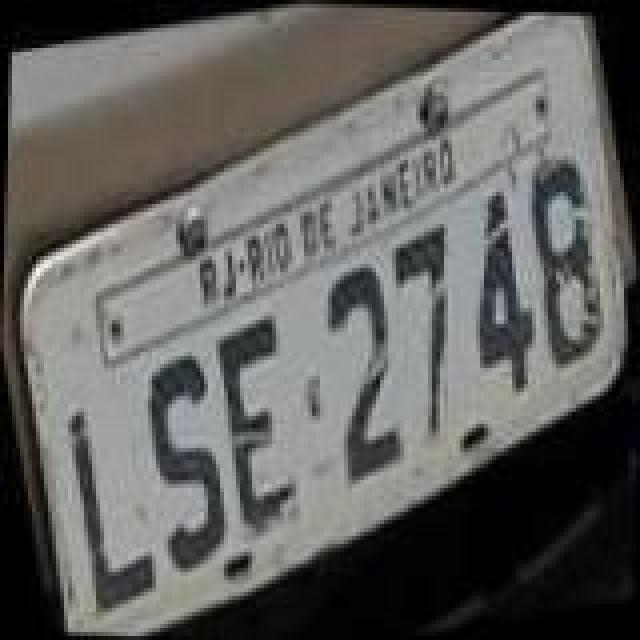2: (296, 254, 420, 490)
4: (442, 178, 554, 398)
7: (376, 214, 488, 438)
8: (504, 148, 620, 372)
E: (196, 302, 316, 530)
L: (52, 390, 168, 618)
S: (124, 346, 244, 578)
